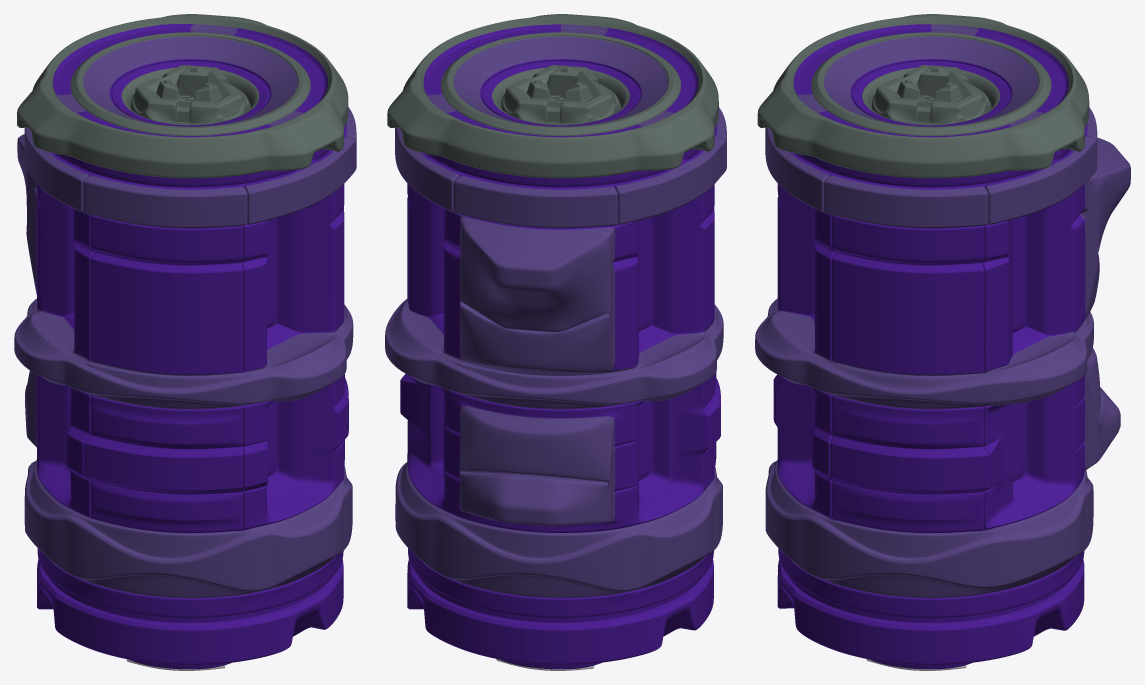
3 renders of one model, left to right at view 1: azimuth 30°, elevation 25°; view 2: azimuth 150°, elevation 25°; view 3: azimuth 270°, elevation 25°, orthographic.
Visible parts, largest first — view 1: Cylinder009; view 2: Cylinder009; view 3: Cylinder009.
Part boxes in pixels (x1,y1,x2,y2): Cylinder009: (14,14,356,669); Cylinder009: (385,14,726,669); Cylinder009: (755,14,1130,669).
Size of the model in its own units: 12.4 by 21.83 by 13.47.
